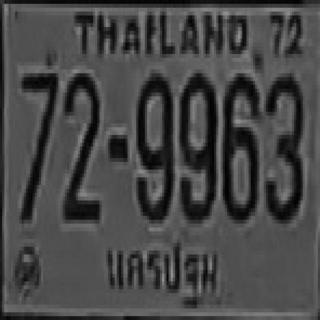N02: (62, 68, 98, 218)
N03: (264, 69, 303, 220)
N06: (221, 69, 257, 220)
N07: (19, 69, 56, 220)
N09: (177, 69, 214, 220), (135, 69, 172, 220)
P28: (100, 238, 222, 312)
